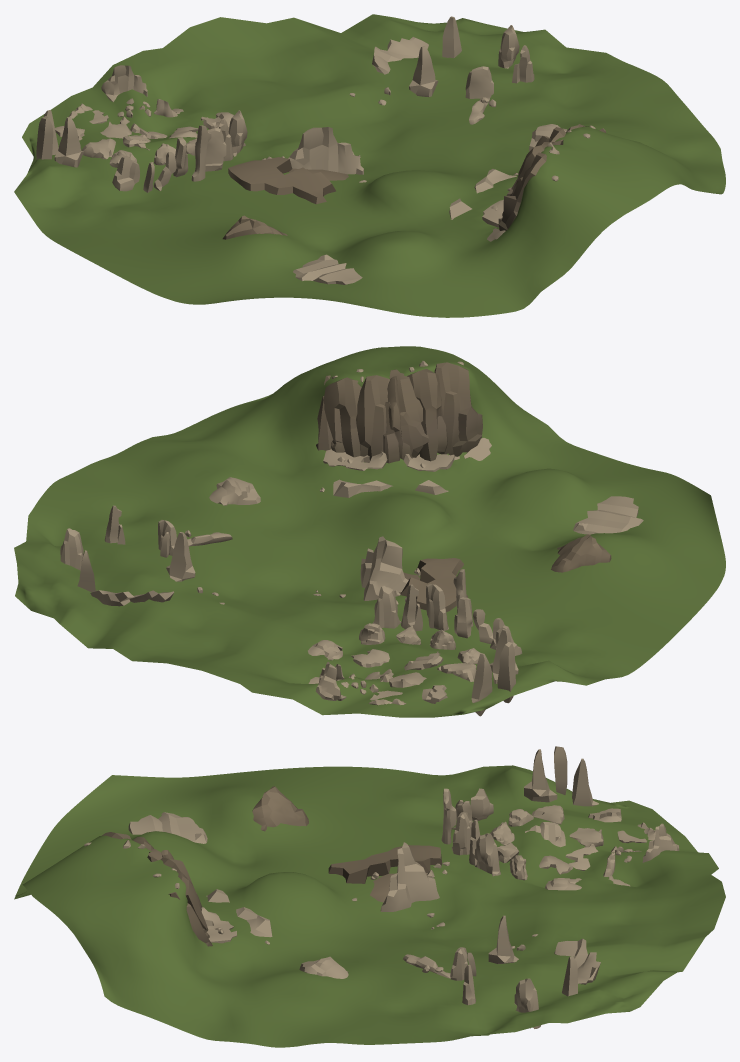
The picture shows the model from 3 angles, top to bottom: view 1: azimuth 30°, elevation 25°; view 2: azimuth 150°, elevation 25°; view 3: azimuth 270°, elevation 25°; orthographic projection.
Parts seen in each view (by area): view 1: Plane, rock.046, rock.005, rock.040, rock.061, rock.044, rock.026, rock.043, rock.004, rock.029, rock.010, rock.015 (+9 smaller); view 2: Plane, rock.040, rock.005, rock.046, rock.061, rock.047, rock.062, rock.074, rock.043, rock.008, rock.044, rock.069 (+8 smaller); view 3: Plane, rock.046, rock.005, rock.040, rock.047, rock.061, rock.044, rock.004, rock.074, rock.008, rock.018, rock.043 (+10 smaller).
Boxes of the visible parts, left/top/right/bottom form: Plane: left=14, top=14, right=725, bottom=317; rock.046: left=228, top=157, right=348, bottom=204; rock.005: left=288, top=127, right=363, bottom=174; rock.040: left=498, top=124, right=605, bottom=230; rock.061: left=293, top=254, right=362, bottom=284; rock.044: left=372, top=37, right=428, bottom=74; rock.026: left=101, top=65, right=147, bottom=101; rock.043: left=409, top=46, right=438, bottom=96; rock.004: left=54, top=117, right=83, bottom=167; rock.029: left=465, top=66, right=493, bottom=98; rock.010: left=205, top=128, right=226, bottom=171; rock.015: left=112, top=155, right=139, bottom=191; Plane: left=14, top=346, right=725, bottom=717; rock.040: left=316, top=362, right=482, bottom=463; rock.005: left=360, top=536, right=408, bottom=600; rock.046: left=399, top=558, right=467, bottom=611; rock.061: left=573, top=496, right=643, bottom=534; rock.047: left=551, top=534, right=611, bottom=572; rock.062: left=209, top=477, right=260, bottom=505; rock.074: left=333, top=454, right=459, bottom=497; rock.043: left=166, top=532, right=195, bottom=581; rock.008: left=372, top=585, right=401, bottom=628; rock.044: left=90, top=590, right=174, bottom=606; rock.069: left=323, top=449, right=387, bottom=470; Plane: left=14, top=765, right=725, bottom=1047; rock.046: left=328, top=845, right=442, bottom=902; rock.005: left=380, top=842, right=439, bottom=911; rock.040: left=101, top=832, right=212, bottom=946; rock.047: left=252, top=786, right=308, bottom=831; rock.061: left=128, top=812, right=207, bottom=843; rock.044: left=554, top=938, right=600, bottom=984; rock.004: left=524, top=749, right=557, bottom=802; rock.074: left=206, top=889, right=272, bottom=937; rock.008: left=474, top=833, right=500, bottom=876; rock.018: left=572, top=758, right=598, bottom=806; rock.043: left=488, top=915, right=518, bottom=963.
Bounding box in the file's own units: 156 × 34.21 × 158.
